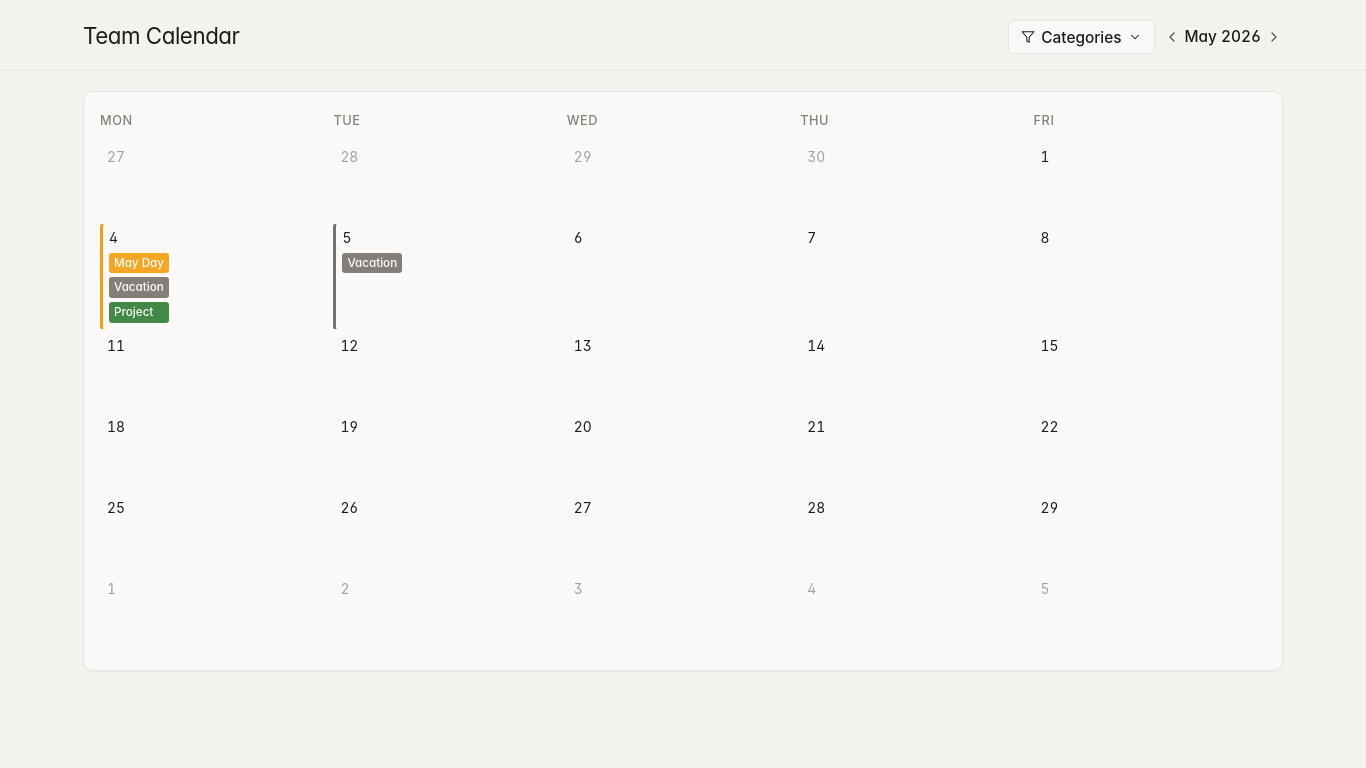
Test: Calendar › opens the same grouped popup for a day holding a holiday, an absence and working time
Step 1. Click the button "4 May Day Vacation Project" → (216, 277), box [100, 224, 332, 330]
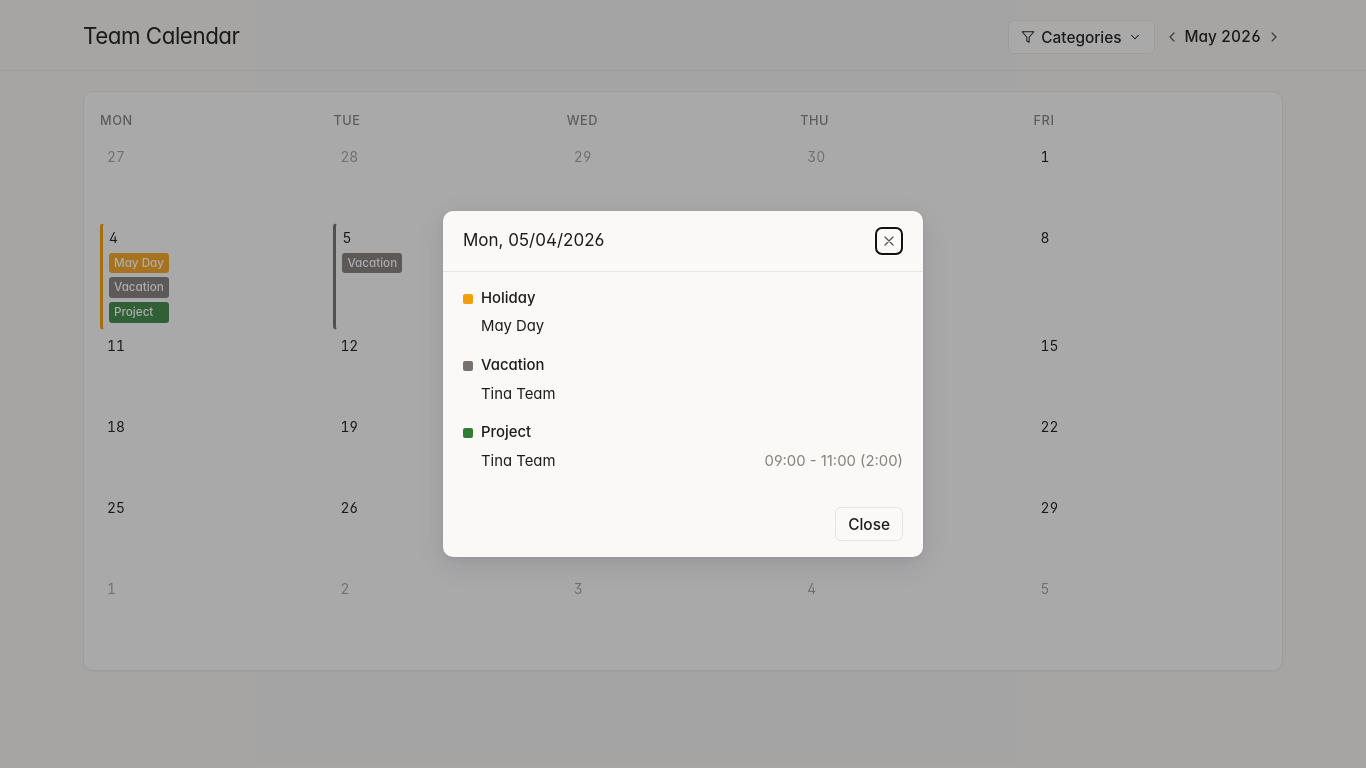
Expected: the link with class "cal-popup-row" reads "Tina Team"
Step 2. Click the link with class "cal-popup-row" showing "Tina Team" → (518, 394), box [481, 384, 556, 402]
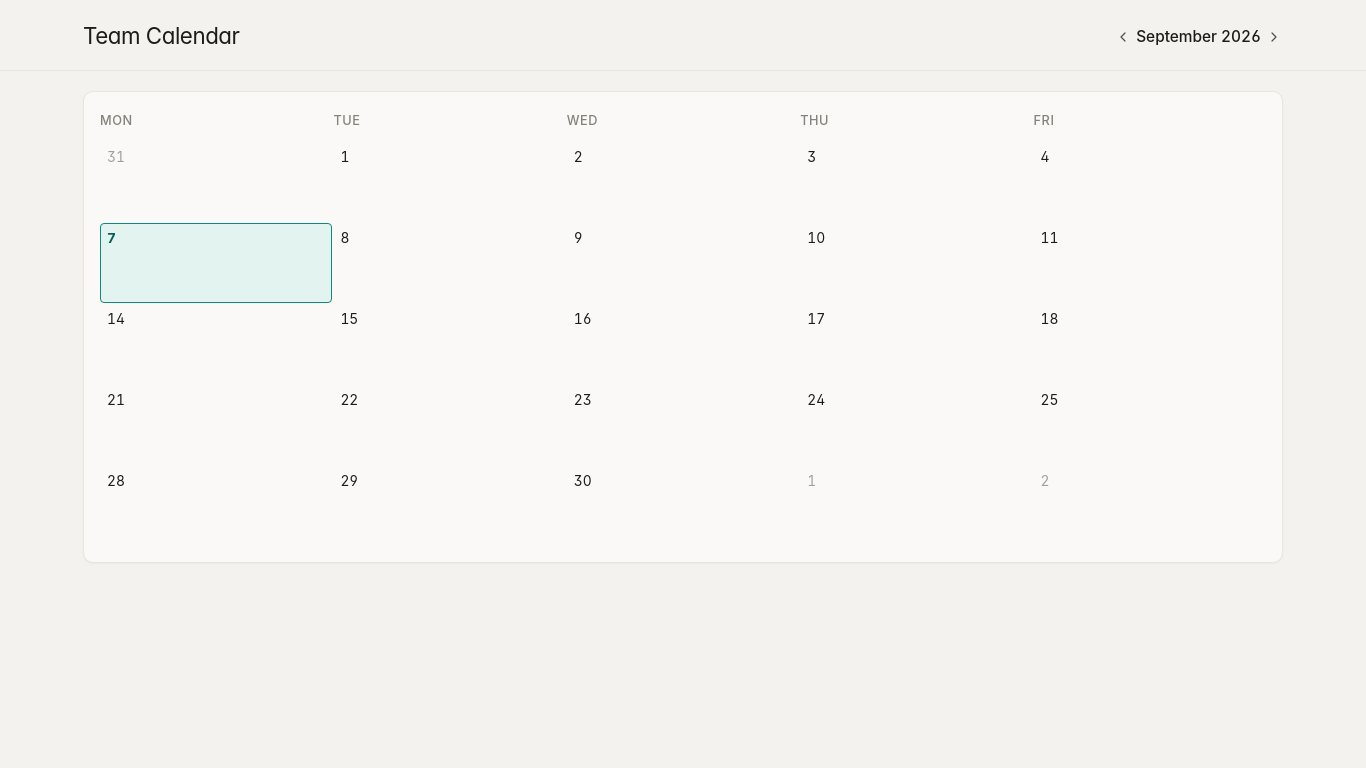
Expected: the element with class "cal-popup" is gone
